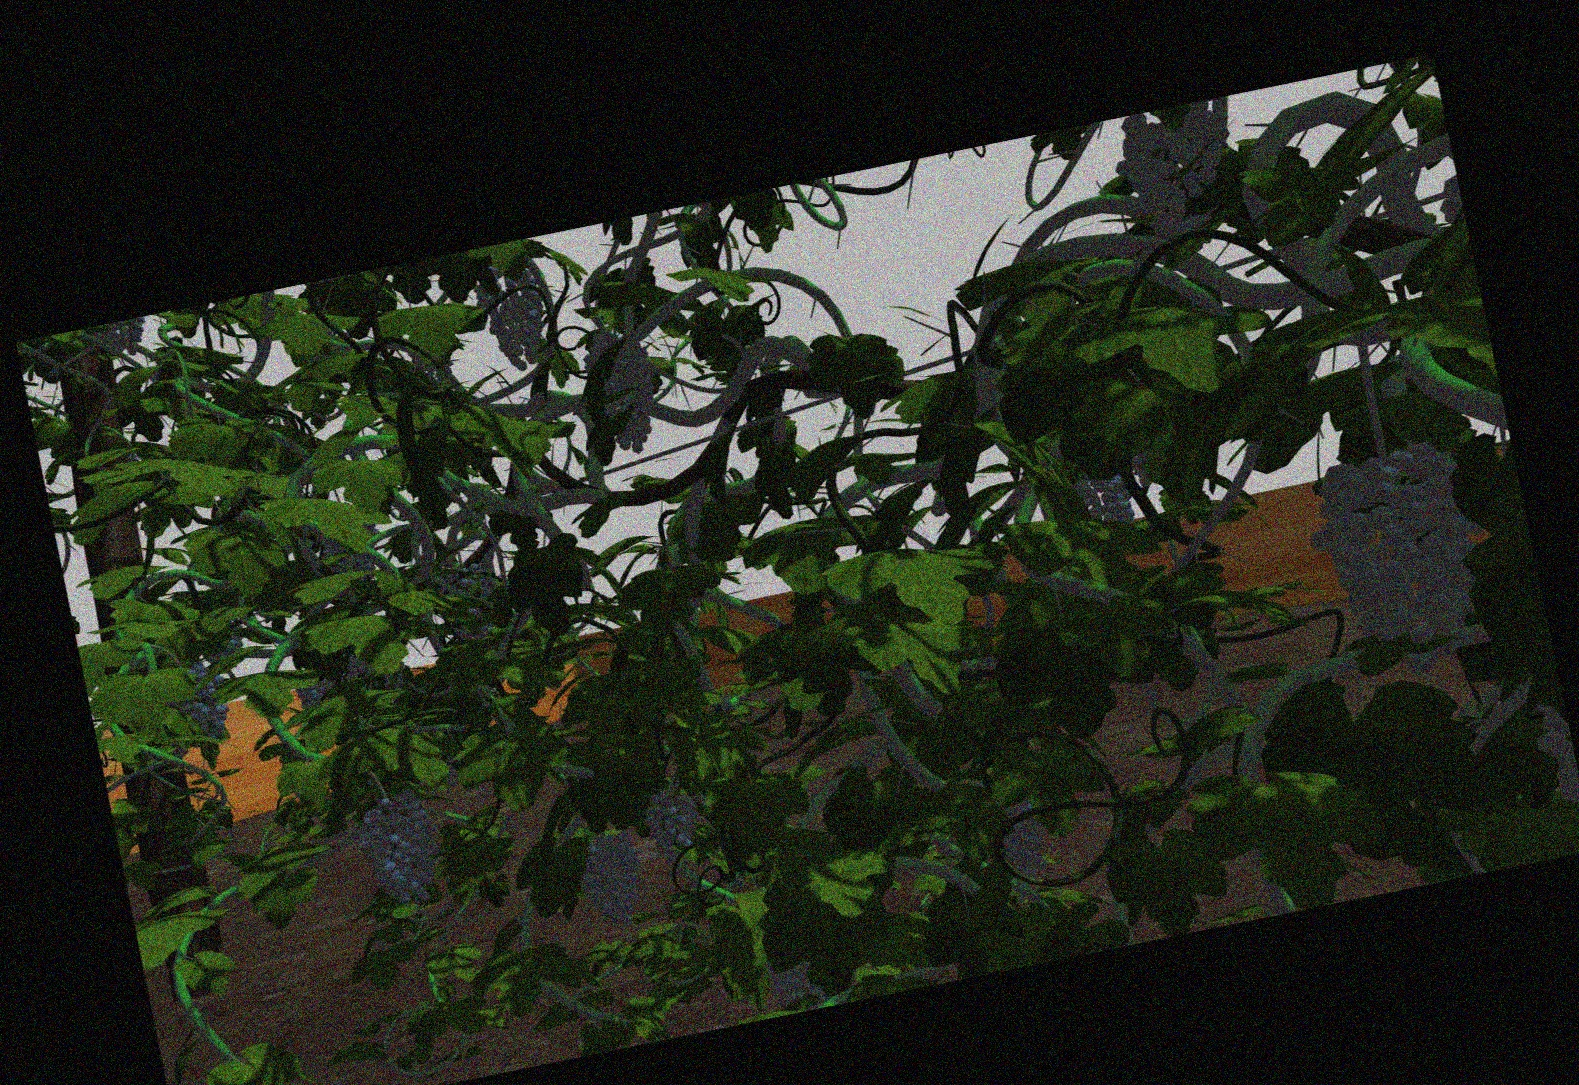grape: (1315, 448, 1479, 676), (1119, 115, 1229, 236), (359, 791, 442, 909), (586, 332, 656, 454), (484, 268, 548, 374), (580, 832, 646, 929), (643, 786, 701, 867)
